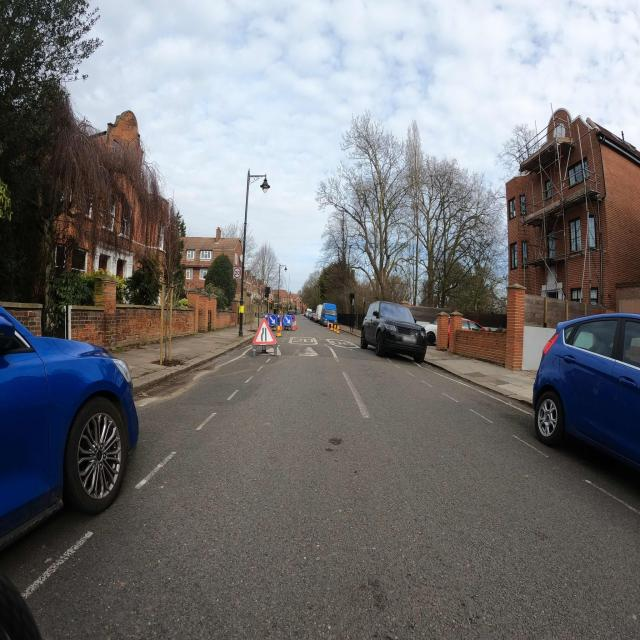car: (0, 284, 140, 608), (531, 310, 640, 504), (360, 300, 428, 362), (416, 317, 438, 344), (322, 303, 337, 327), (282, 314, 292, 330), (306, 308, 311, 319)
